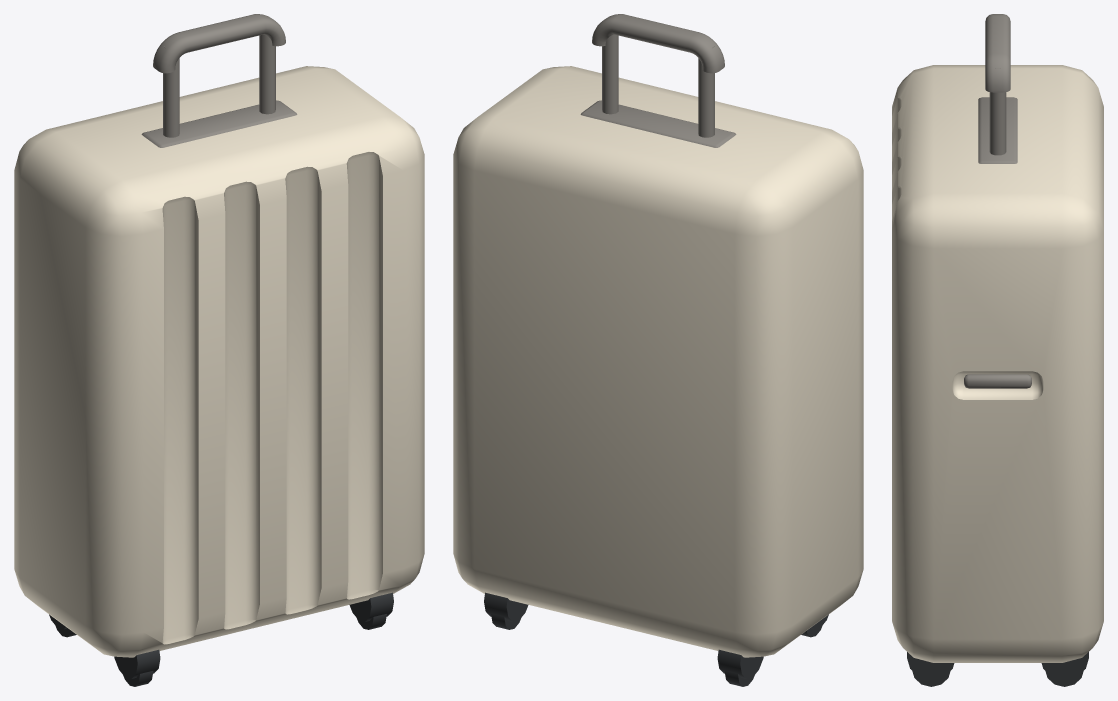
File: bagage_valise_rigide.glb
3 renders of one model, left to right at view 1: azimuth 30°, elevation 25°; view 2: azimuth 150°, elevation 25°; view 3: azimuth 270°, elevation 25°, orthographic.
Parts seen in each view (by area): view 1: RIG_Coque.001, RIG_Sangles, RIG_Sombre; view 2: RIG_Coque.001, RIG_Sangles, RIG_Sombre; view 3: RIG_Coque.001, RIG_Sangles, RIG_Sombre.
Boxes of the visible parts, bbox=[...] form: RIG_Coque.001: bbox=[14, 66, 424, 657]; RIG_Sangles: bbox=[141, 14, 297, 147]; RIG_Sombre: bbox=[49, 592, 393, 686]; RIG_Coque.001: bbox=[453, 66, 863, 657]; RIG_Sangles: bbox=[580, 14, 736, 147]; RIG_Sombre: bbox=[484, 592, 828, 686]; RIG_Coque.001: bbox=[892, 65, 1103, 662]; RIG_Sangles: bbox=[964, 14, 1031, 388]; RIG_Sombre: bbox=[907, 652, 1088, 686].
Size of the model in its own units: 0.5 by 0.8662 by 0.28.
